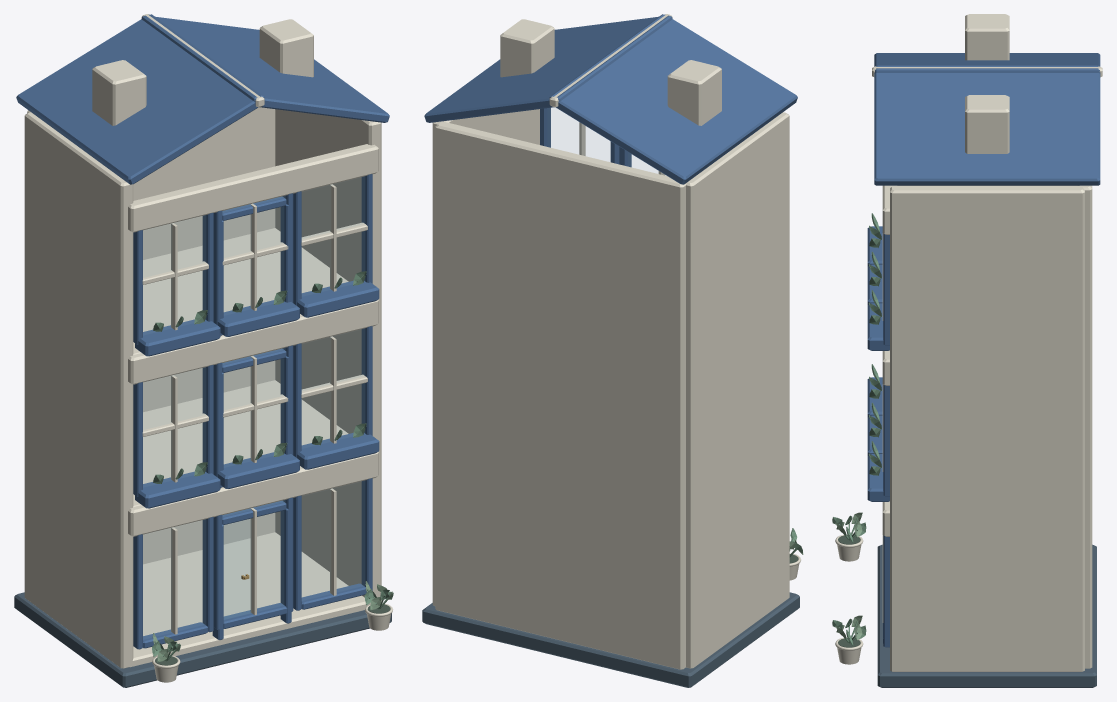
Rendered from v18_buildings_apartment.glb.
The picture shows the model from 3 angles, left to right: view 1: azimuth 30°, elevation 25°; view 2: azimuth 150°, elevation 25°; view 3: azimuth 270°, elevation 25°; orthographic projection.
Visible parts, largest first — view 1: _MeshInstance3D_3665, _MeshInstance3D_3666, _MeshInstance3D_3780, _MeshInstance3D_3667, _MeshInstance3D_3668, _MeshInstance3D_3781, _MeshInstance3D_3737, _MeshInstance3D_3736, _MeshInstance3D_3692, _MeshInstance3D_3664, _MeshInstance3D_3693, _MeshInstance3D_3669 (+50 smaller); view 2: _MeshInstance3D_3667, _MeshInstance3D_3665, _MeshInstance3D_3780, _MeshInstance3D_3781, _MeshInstance3D_3664, _MeshInstance3D_3666, _MeshInstance3D_3783, _MeshInstance3D_3784; view 3: _MeshInstance3D_3666, _MeshInstance3D_3781, _MeshInstance3D_3664, _MeshInstance3D_3667, _MeshInstance3D_3780, _MeshInstance3D_3784, _MeshInstance3D_3783, _MeshInstance3D_3681, _MeshInstance3D_3721, _MeshInstance3D_3765, _MeshInstance3D_3726, _MeshInstance3D_3770 (+5 smaller).
Boxes of the visible parts, x1,y1,x2,y2 form: _MeshInstance3D_3665: [24, 112, 133, 668]; _MeshInstance3D_3666: [275, 109, 381, 601]; _MeshInstance3D_3780: [16, 14, 264, 184]; _MeshInstance3D_3667: [27, 107, 275, 564]; _MeshInstance3D_3668: [129, 532, 370, 667]; _MeshInstance3D_3781: [141, 15, 389, 122]; _MeshInstance3D_3737: [128, 144, 378, 232]; _MeshInstance3D_3736: [133, 228, 348, 354]; _MeshInstance3D_3692: [133, 380, 348, 506]; _MeshInstance3D_3664: [14, 592, 391, 687]; _MeshInstance3D_3693: [128, 300, 378, 384]; _MeshInstance3D_3669: [128, 452, 378, 536]; _MeshInstance3D_3667: [435, 122, 685, 669]; _MeshInstance3D_3665: [685, 112, 789, 668]; _MeshInstance3D_3780: [549, 14, 797, 184]; _MeshInstance3D_3781: [424, 15, 672, 122]; _MeshInstance3D_3664: [422, 592, 799, 687]; _MeshInstance3D_3666: [432, 109, 539, 605]; _MeshInstance3D_3783: [667, 60, 721, 125]; _MeshInstance3D_3784: [500, 19, 554, 77]; _MeshInstance3D_3666: [890, 186, 1084, 671]; _MeshInstance3D_3781: [874, 65, 1100, 185]; _MeshInstance3D_3664: [877, 544, 1096, 687]; _MeshInstance3D_3667: [1078, 185, 1092, 668]; _MeshInstance3D_3780: [874, 53, 1100, 73]; _MeshInstance3D_3784: [965, 95, 1009, 153]; _MeshInstance3D_3783: [965, 14, 1009, 60]; _MeshInstance3D_3681: [883, 535, 889, 647]; _MeshInstance3D_3721: [883, 384, 889, 496]; _MeshInstance3D_3765: [883, 233, 889, 345]; _MeshInstance3D_3726: [867, 454, 889, 501]; _MeshInstance3D_3770: [867, 303, 889, 350].
Size of the model in its own units: 4.98 by 10 by 4.36.
